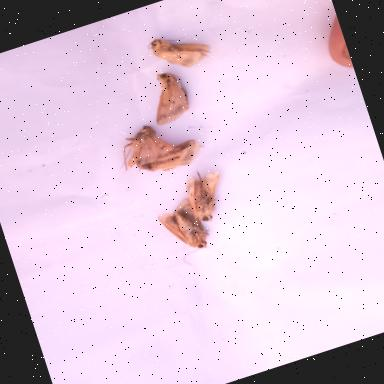abw: (154, 192, 226, 272), (143, 20, 219, 80), (106, 118, 174, 178), (140, 65, 200, 132), (131, 134, 208, 184), (178, 162, 236, 228)
